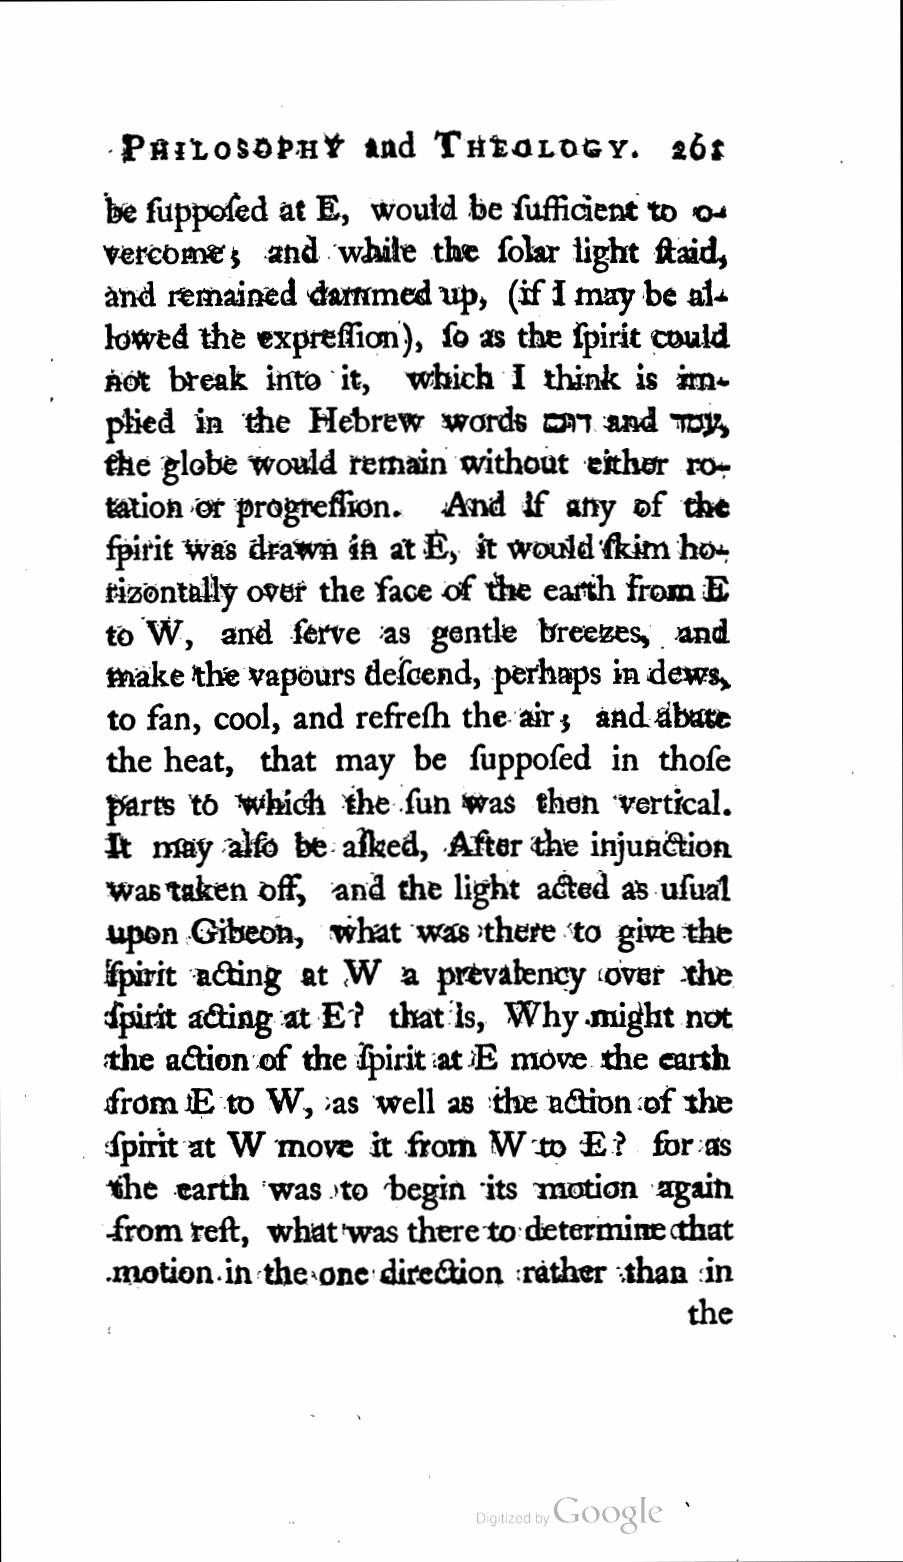catchword: (686, 1288, 736, 1328)
header: (120, 130, 644, 166)
page_num: (666, 128, 728, 166)
top_p: (104, 194, 734, 1284)
